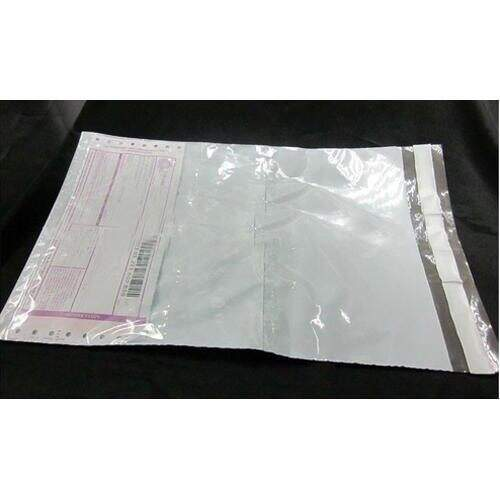塑料袋: (0, 132, 498, 374)
